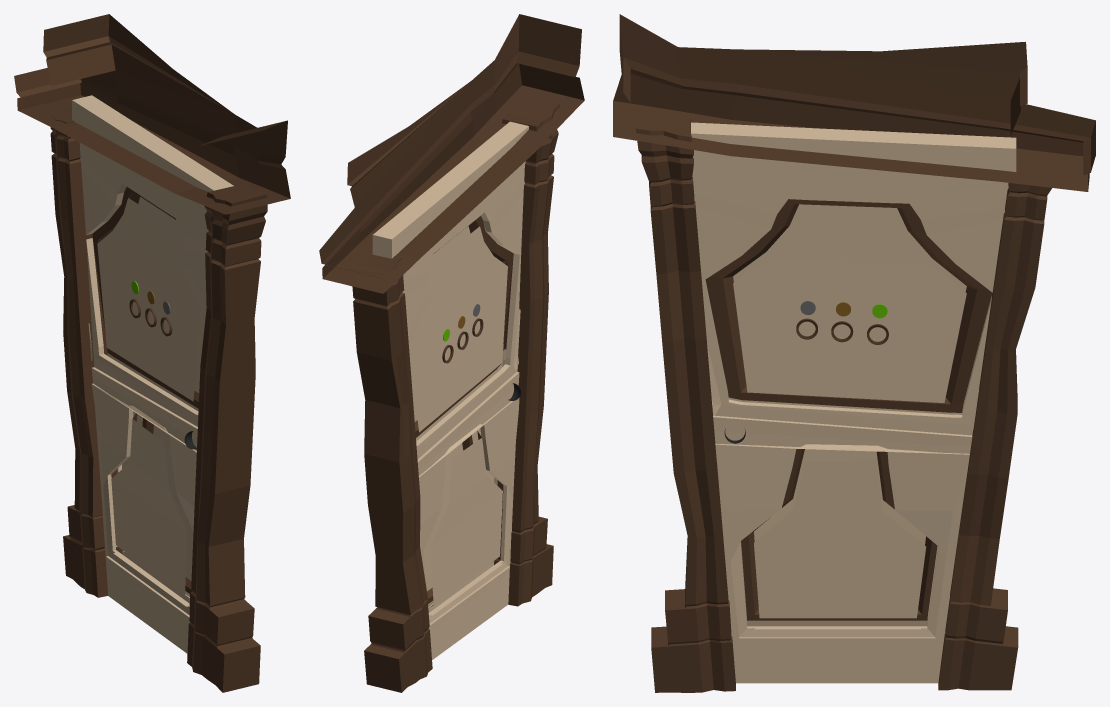
The model's file is end-door.fbx.
3 renders of one model, left to right at view 1: azimuth 30°, elevation 25°; view 2: azimuth 150°, elevation 25°; view 3: azimuth 270°, elevation 25°, orthographic. The views are drawn at different scales.
Parts seen in each view (by area): view 1: Cube.004; view 2: Cube.004; view 3: Cube.004.
Boxes of the visible parts, x1,y1,x2,y2 form: Cube.004: (14,14,290,692); Cube.004: (319,14,584,692); Cube.004: (613,14,1095,692).
Bounding box in the file's own units: 33.92 × 284 × 191.
